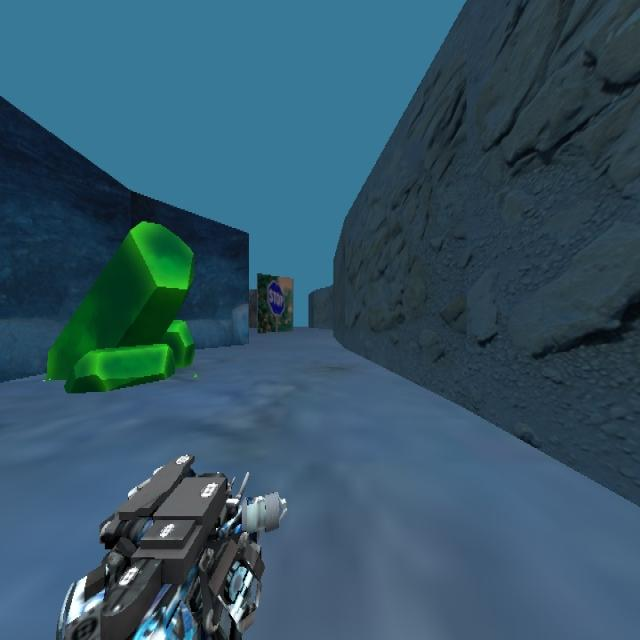Diamon: (44, 219, 196, 392)
Stop_Sign: (256, 272, 293, 332), (266, 279, 284, 316)
